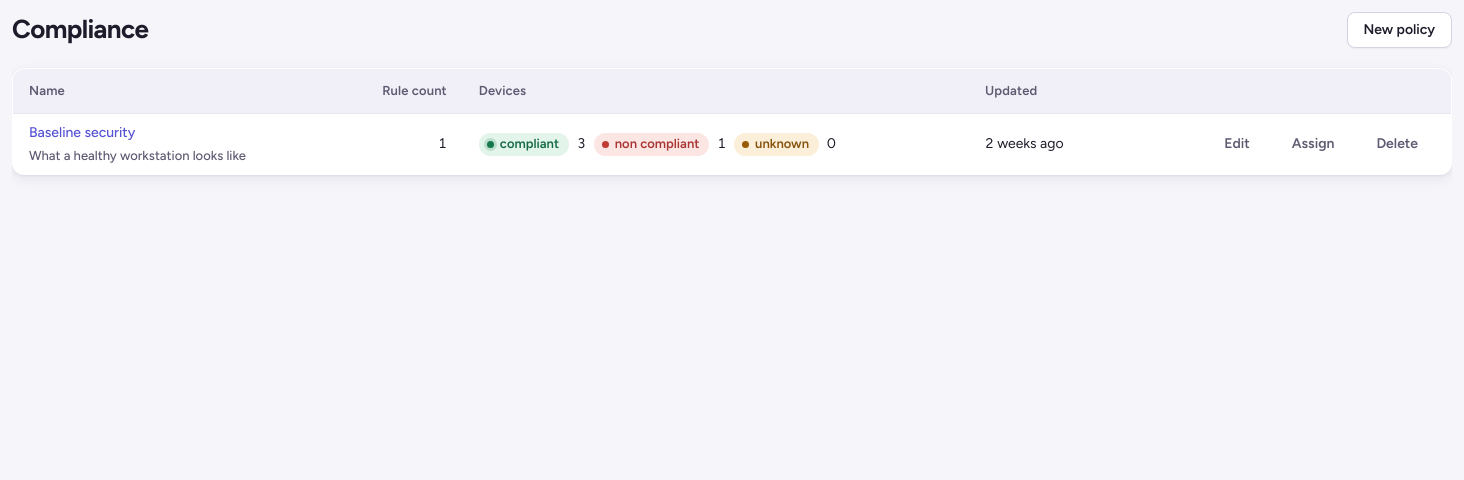
Test: Compliance › says the re-evaluation is running in the background, and how big it is
Click the button "Baseline security" at (82, 133), box [29,122,135,144]
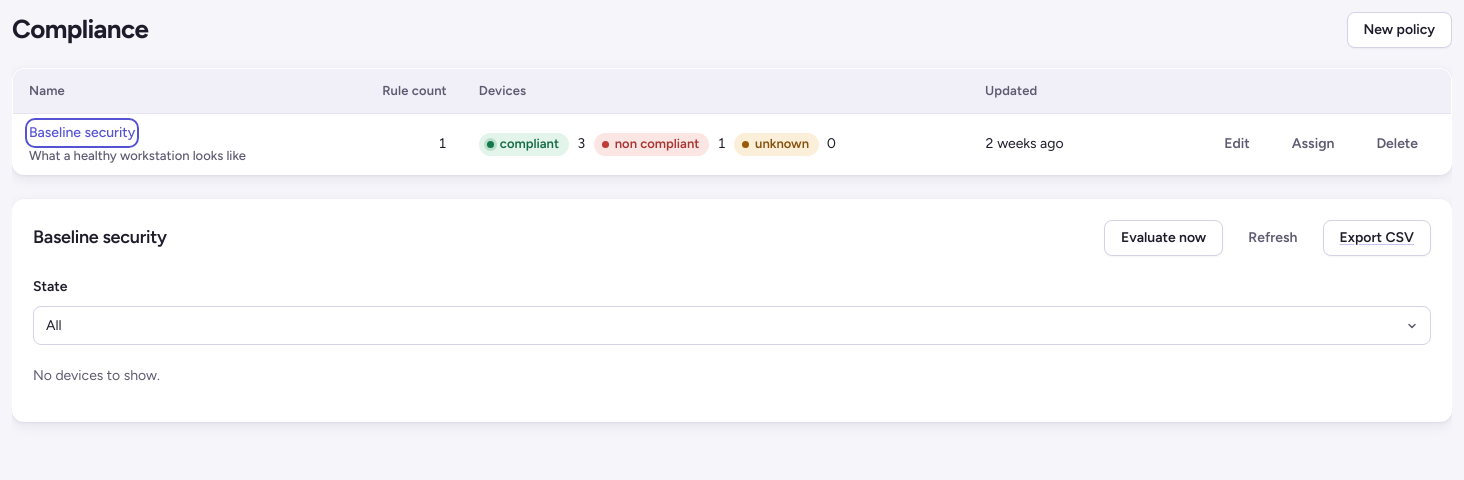
Click the button "Evaluate now" at (1164, 238), box [1104,220,1223,256]
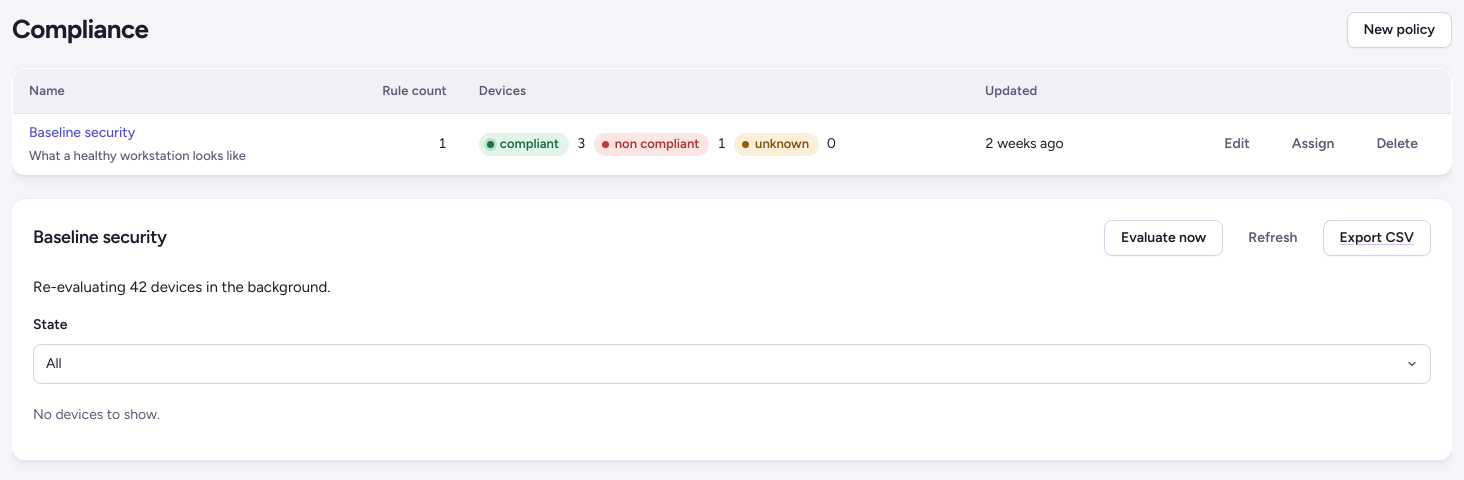
Expected: the text "Re-evaluating 42 devices in the background." is shown, [33,278,330,296]
